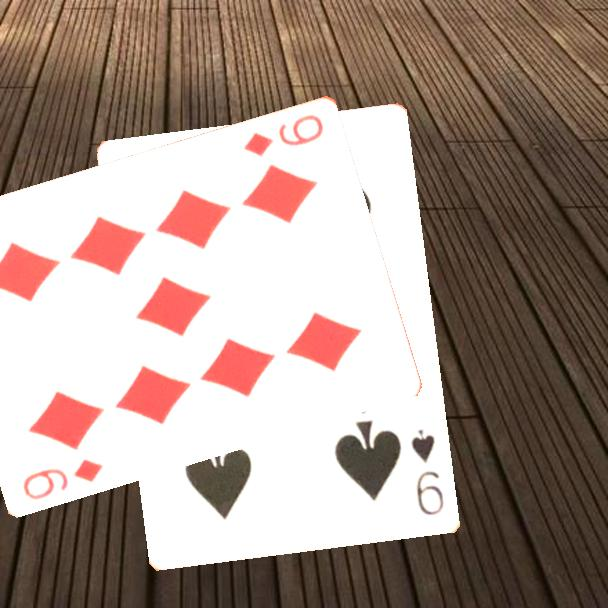d09: (240, 110, 327, 159), (20, 455, 106, 502)
s09: (408, 426, 447, 519)
